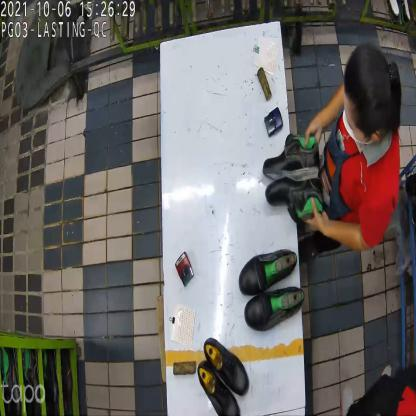shoes: (239, 248, 304, 335), (266, 137, 327, 213), (199, 332, 248, 416)
stamp: (266, 106, 286, 140), (176, 248, 192, 282)
